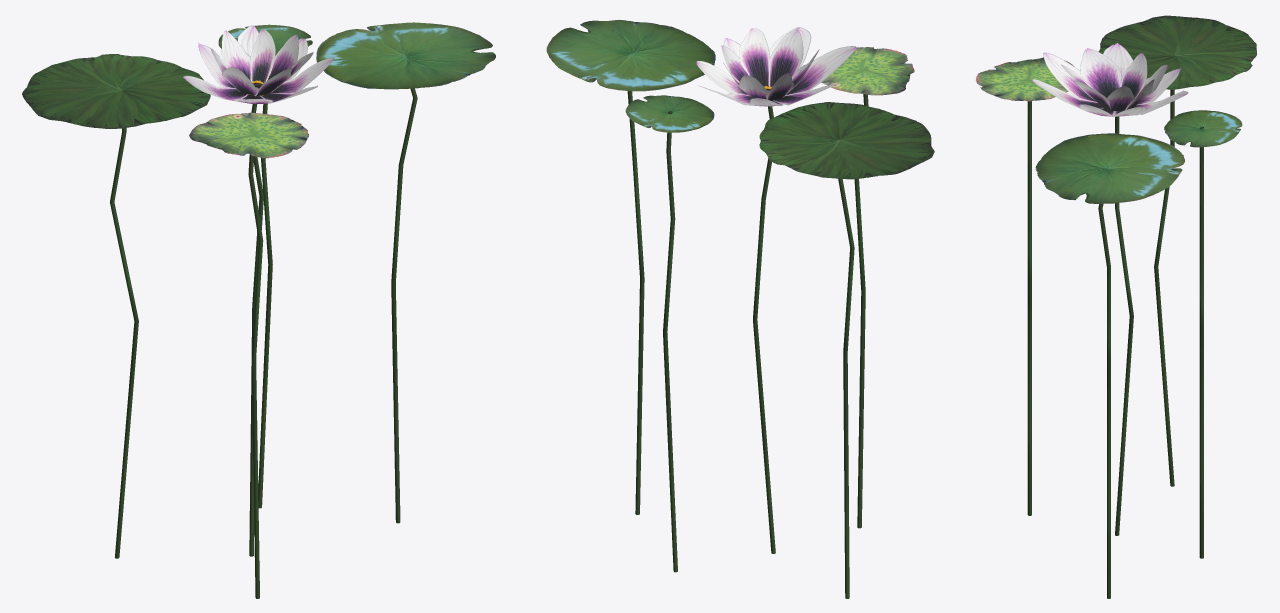
File: water_lily.fbx
The picture shows the model from 3 angles, left to right: view 1: azimuth 30°, elevation 25°; view 2: azimuth 150°, elevation 25°; view 3: azimuth 270°, elevation 25°; orthographic projection. The views are drawn at different scales.
Visible parts, largest first — view 1: Cylinder.003, Cylinder.002, Plane, Plane.005, Cylinder.001; view 2: Cylinder.003, Cylinder.002, Plane, Plane.005, Cylinder.001; view 3: Cylinder.002, Cylinder.003, Plane, Plane.005, Cylinder.001.
Boxes of the visible parts, <box> form: Cylinder.003: <box>22,54,210,558</box>; Cylinder.002: <box>316,22,495,523</box>; Plane: <box>183,25,334,556</box>; Plane.005: <box>189,112,308,598</box>; Cylinder.001: <box>218,24,312,508</box>; Cylinder.003: <box>759,102,934,598</box>; Cylinder.002: <box>546,19,715,514</box>; Plane: <box>696,27,856,553</box>; Plane.005: <box>821,47,914,528</box>; Cylinder.001: <box>625,95,714,572</box>; Cylinder.002: <box>1035,133,1184,598</box>; Cylinder.003: <box>1098,15,1256,486</box>; Plane: <box>1032,43,1188,535</box>; Plane.005: <box>976,57,1074,515</box>; Cylinder.001: <box>1164,110,1242,558</box>.
Size of the model in its own units: 112 by 128 by 71.71.
